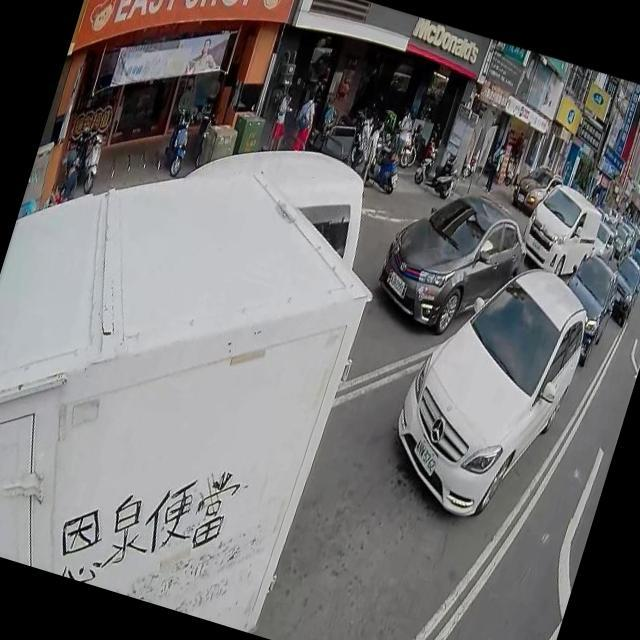person: (350, 113, 392, 192), (286, 89, 322, 154), (265, 80, 298, 150), (52, 147, 84, 205), (345, 111, 375, 171), (387, 106, 416, 166), (480, 142, 504, 194), (305, 76, 327, 118)
